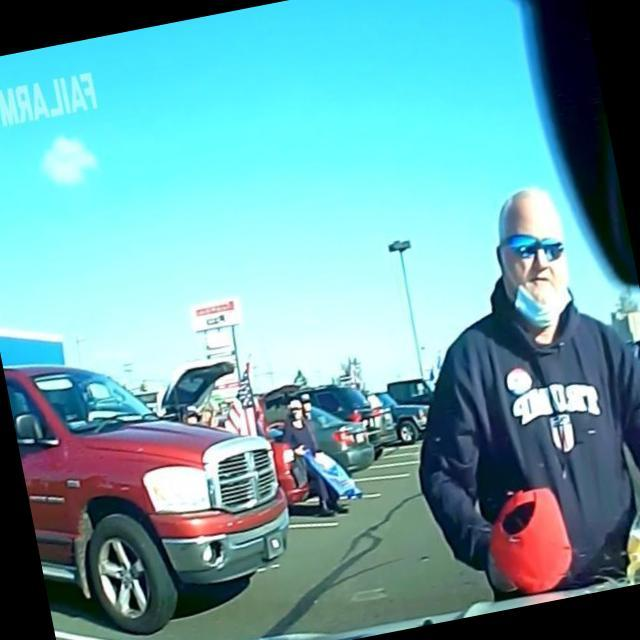person: (367, 174, 640, 622)
